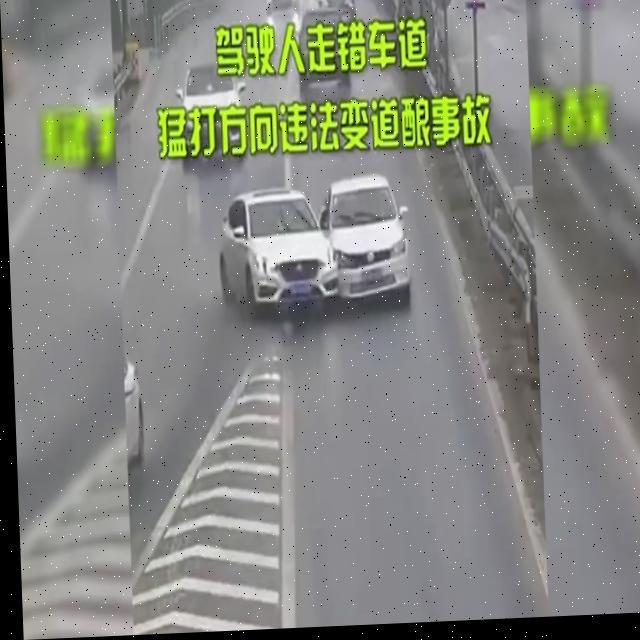multiple_accident: (220, 167, 421, 323)
